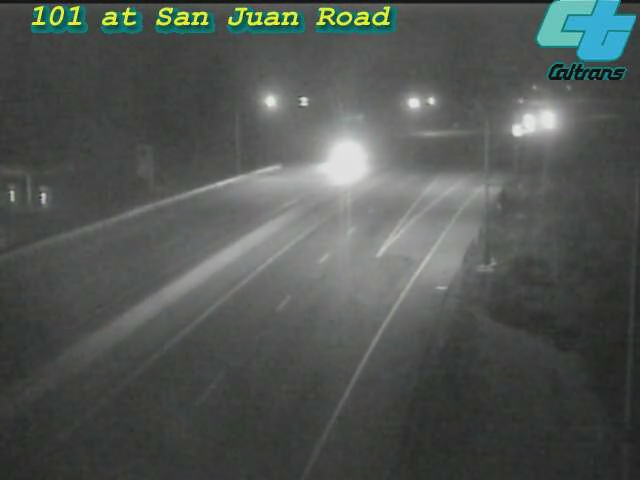vehicle: (324, 132, 374, 182), (488, 107, 538, 157), (506, 96, 556, 146), (521, 94, 571, 144)
